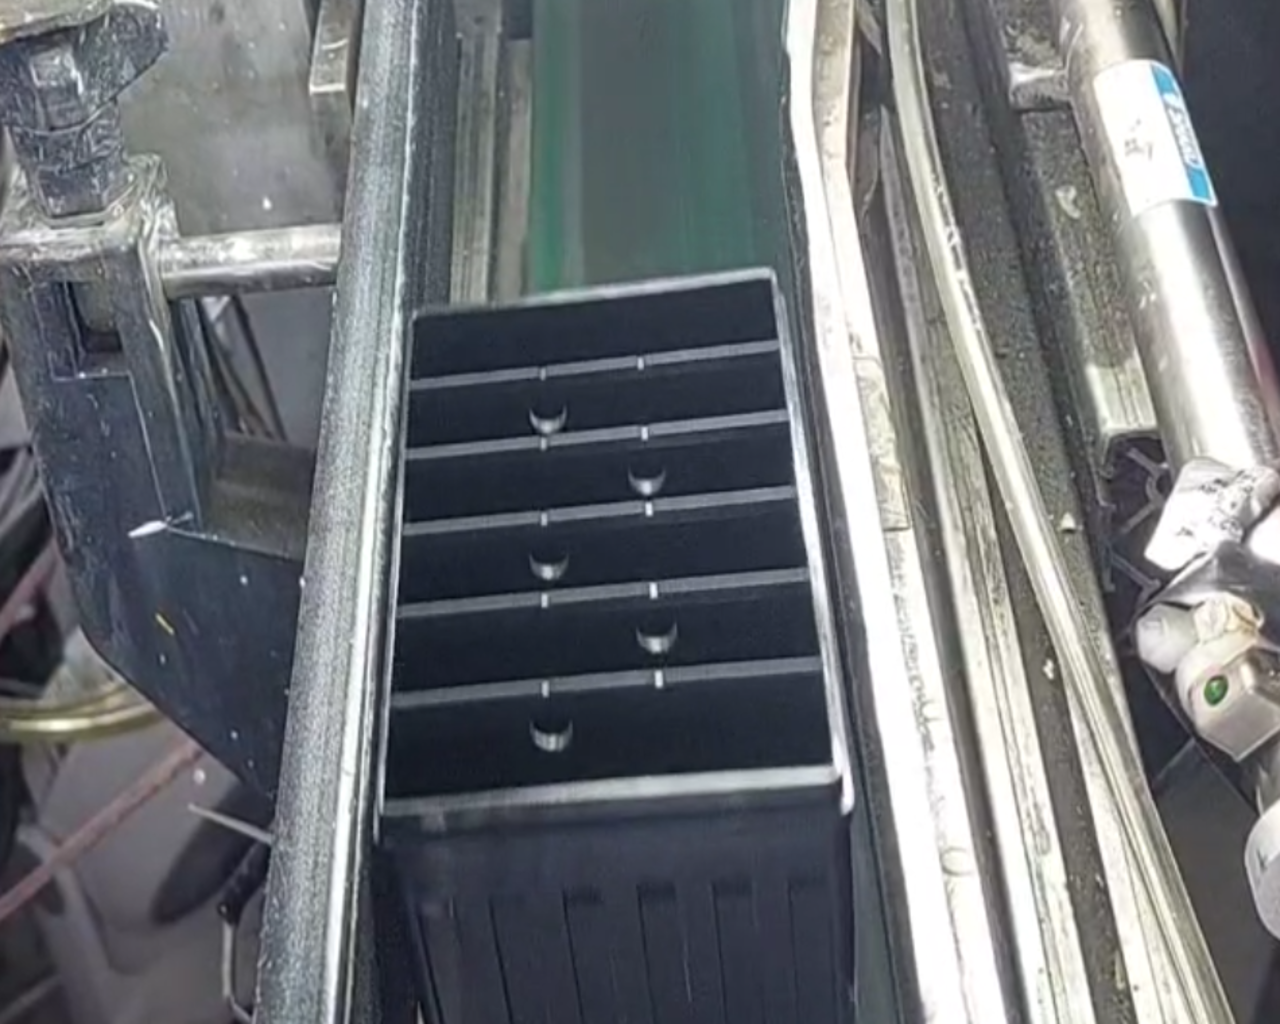box: (360, 245, 875, 866)
round: (609, 443, 681, 503), (617, 605, 691, 663), (518, 699, 587, 761), (515, 533, 579, 589), (517, 383, 577, 438)
